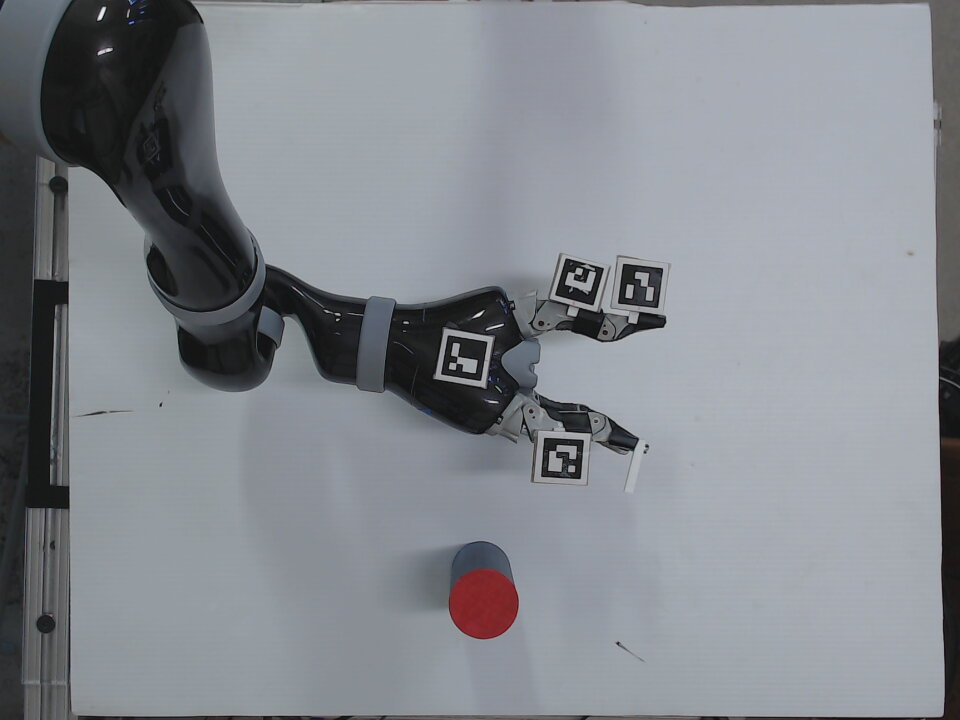cylinder: (444, 538, 523, 643)
